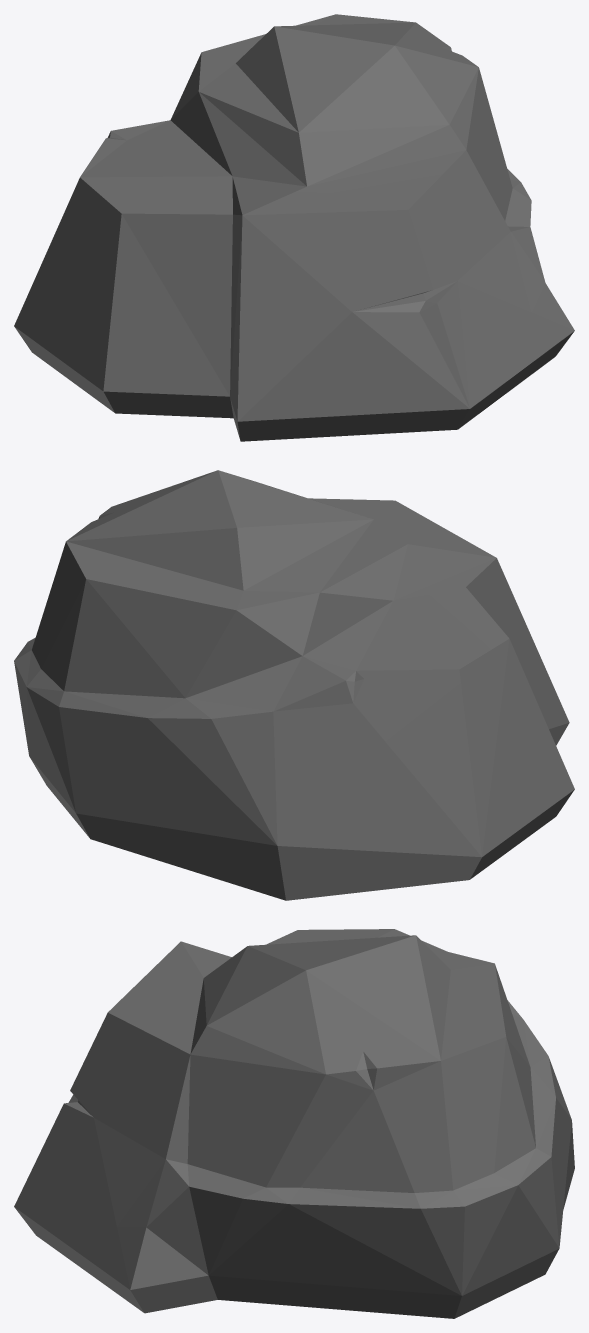
The model's file is rock__rock8_natural_medium.glb.
3 renders of one model, top to bottom at view 1: azimuth 30°, elevation 25°; view 2: azimuth 150°, elevation 25°; view 3: azimuth 270°, elevation 25°, orthographic. The views are drawn at different scales.
Parts seen in each view (by area): view 1: rock8.natural.medium; view 2: rock8.natural.medium; view 3: rock8.natural.medium.
Part boxes in pixels (x1,y1,x2,y2): rock8.natural.medium: [14, 14, 574, 441]; rock8.natural.medium: [14, 470, 574, 900]; rock8.natural.medium: [14, 929, 574, 1318].
Size of the model in its own units: 2.69 by 1.59 by 2.71.
Materials: 1 (1 with a texture image).
